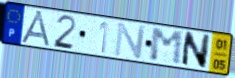1: (98, 21, 109, 55)
2: (53, 14, 78, 51)
A: (19, 10, 54, 49)
M: (150, 27, 185, 67)
N: (113, 21, 148, 60), (179, 30, 212, 70)
